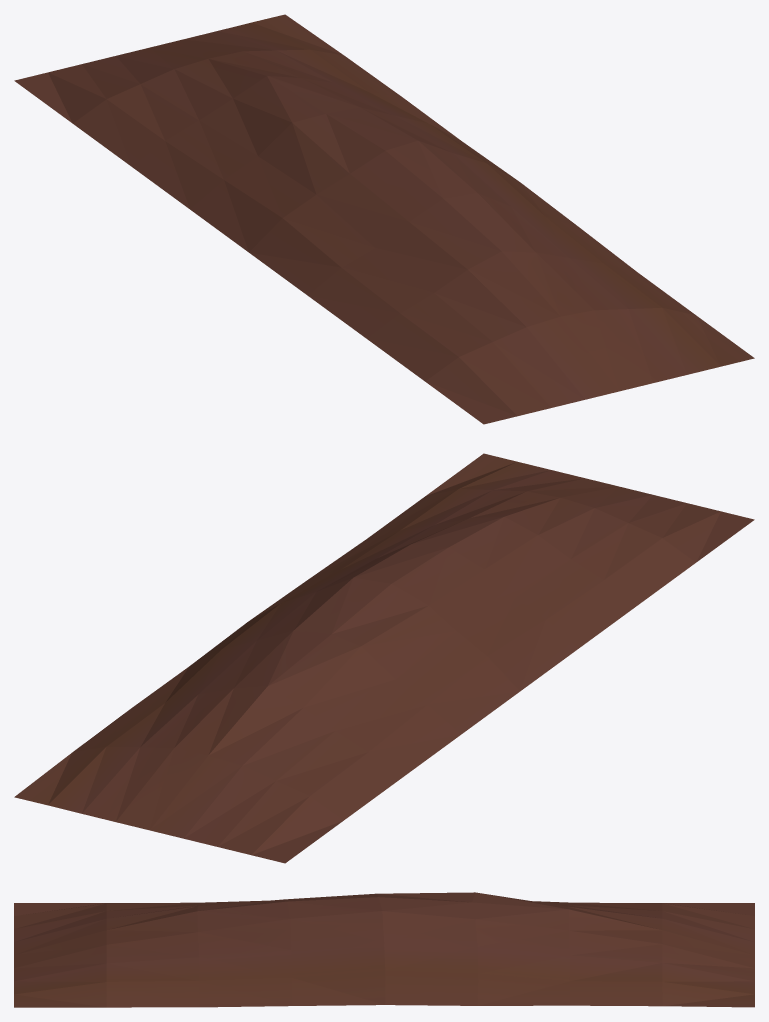
File: mod_groundLayering_1x3.fbx
3 views of the same model, one above another, from view 1: azimuth 30°, elevation 25°; view 2: azimuth 150°, elevation 25°; view 3: azimuth 270°, elevation 25° (orthographic). The views are drawn at different scales.
Visible parts, largest first — view 1: mod_groundLayering_1x3; view 2: mod_groundLayering_1x3; view 3: mod_groundLayering_1x3.
Boxes of the visible parts, <box> form: mod_groundLayering_1x3: <box>14,14,754,424</box>; mod_groundLayering_1x3: <box>14,453,754,863</box>; mod_groundLayering_1x3: <box>14,892,754,1007</box>.
Size of the model in its own units: 100 by 25.5 by 300.
